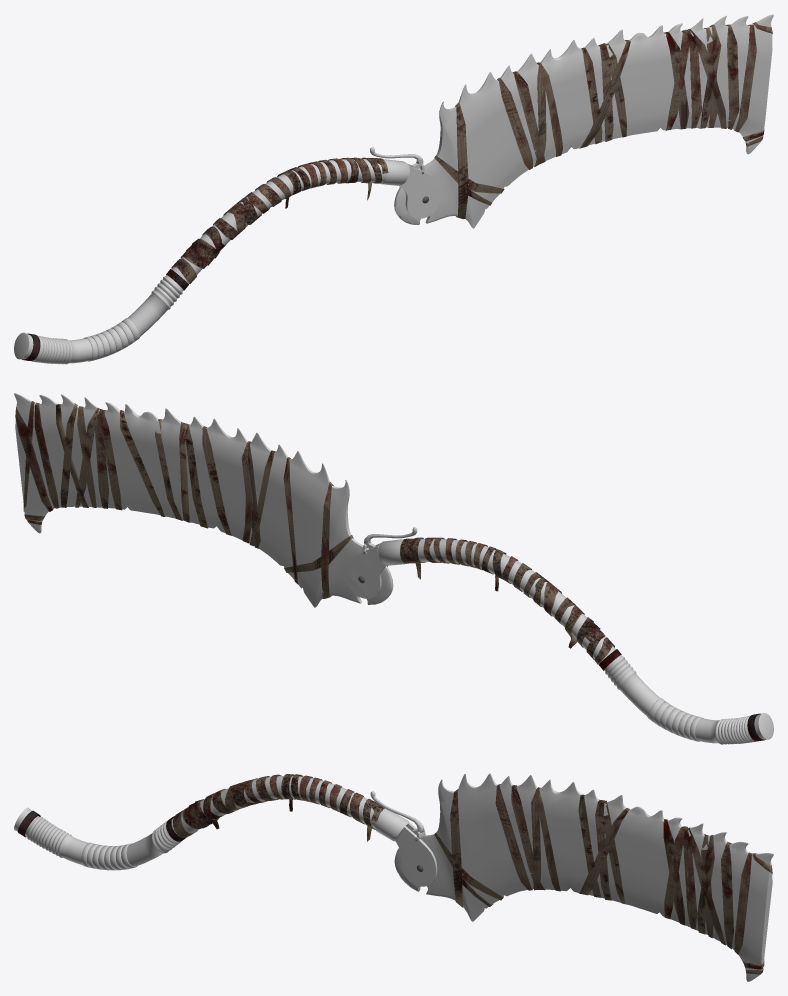
Rendered from Saw Cleaver.fbx.
3 renders of one model, top to bottom at view 1: azimuth 30°, elevation 25°; view 2: azimuth 150°, elevation 25°; view 3: azimuth 330°, elevation 25°, orthographic.
Parts seen in each view (by area): view 1: Object_3, Object_2; view 2: Object_3, Object_2; view 3: Object_3, Object_2.
Boxes of the visible parts, box(x1,y1,x2,y2) form: Object_3: box(14, 14, 773, 364); Object_2: box(22, 22, 772, 360); Object_3: box(14, 393, 773, 744); Object_2: box(15, 401, 765, 741); Object_3: box(14, 773, 773, 981); Object_2: box(17, 774, 772, 974).
Size of the model in its own units: 44282 by 11360 by 1378.
